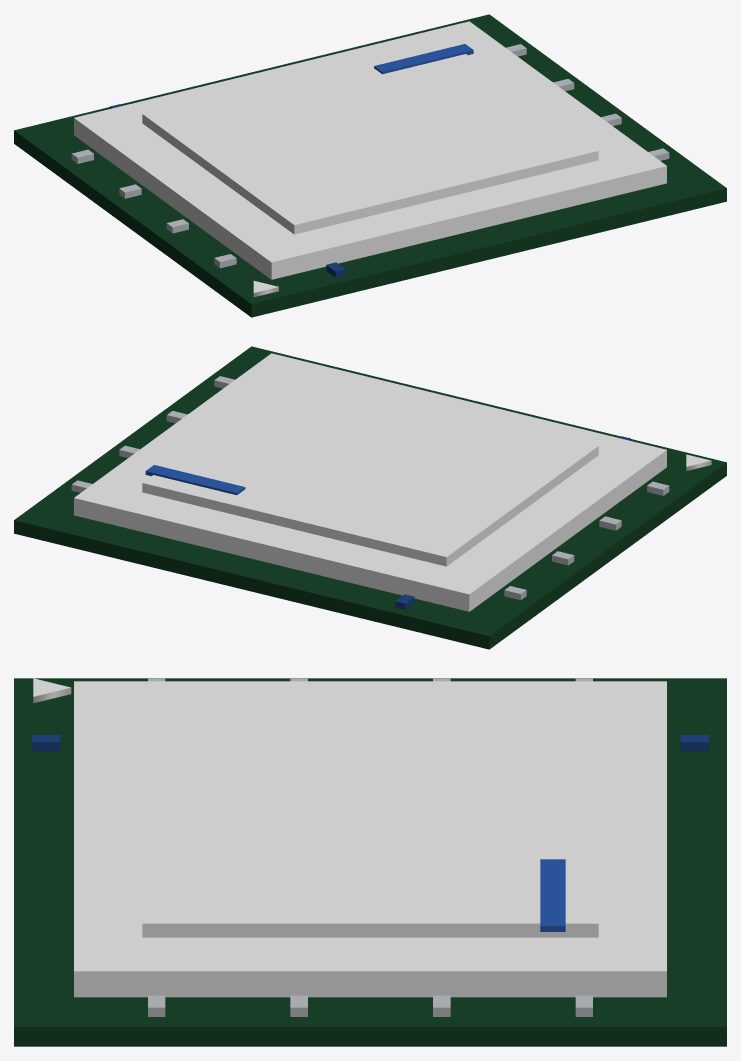
Rendered from hw_cpu_xeon_e2388g.glb.
3 renders of one model, top to bottom at view 1: azimuth 30°, elevation 25°; view 2: azimuth 150°, elevation 25°; view 3: azimuth 270°, elevation 25°, orthographic. The views are drawn at different scales.
Visible parts, largest first — view 1: Body; view 2: Body; view 3: Body.
Boxes of the visible parts, left/top/right/bottom form: Body: left=14, top=14, right=726, bottom=317; Body: left=14, top=346, right=726, bottom=649; Body: left=14, top=678, right=726, bottom=1046.
Size of the model in its own units: 0.052 by 0.00467 by 0.045.
